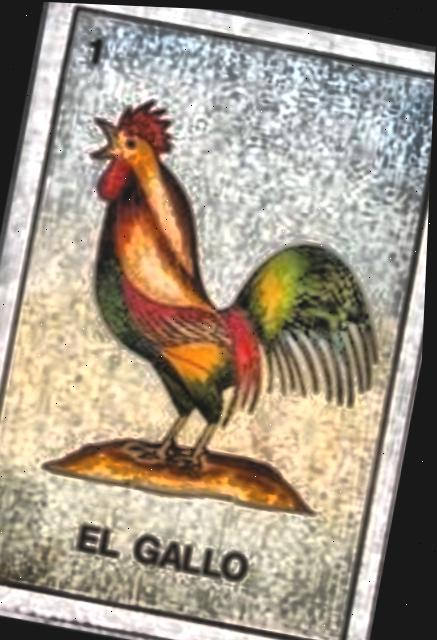Gallo: (0, 5, 437, 640)
